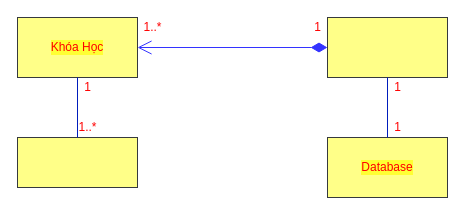
Image size: 465x215. Some labels were removed from this diagram. Here are the shapes that lost their labels. From the top down, the box of each, then its label:
(326, 16, 448, 78): Danh sách Khóa học
(16, 136, 138, 188): Tín chỉ
